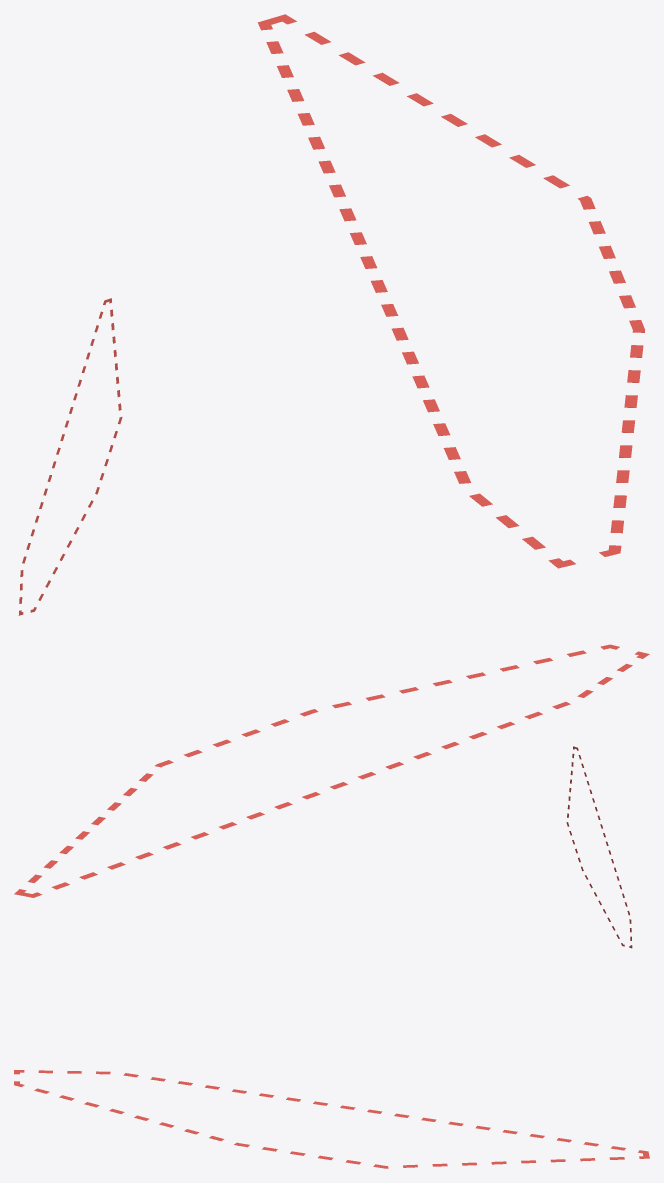
Rendered from houseo_line.glb.
3 renders of one model, top to bottom at view 1: azimuth 30°, elevation 25°; view 2: azimuth 150°, elevation 25°; view 3: azimuth 270°, elevation 25°, orthographic. The views are drawn at different scales.
Visible parts, largest first — view 1: コレクション 2; view 2: コレクション 2; view 3: コレクション 2.
Part boxes in pixels (x1,y1,x2,y2): コレクション 2: (257, 14, 644, 568); コレクション 2: (14, 644, 649, 897); コレクション 2: (14, 1070, 649, 1168).
Size of the model in its own units: 0.4875 by 0.2082 by 0.8135.
